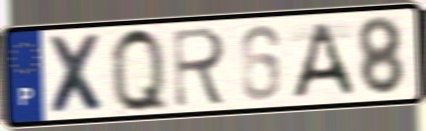6: (239, 23, 283, 104)
8: (355, 12, 408, 99)
A: (288, 19, 357, 101)
Q: (107, 24, 172, 116)
R: (170, 24, 230, 110)
X: (45, 31, 111, 117)
